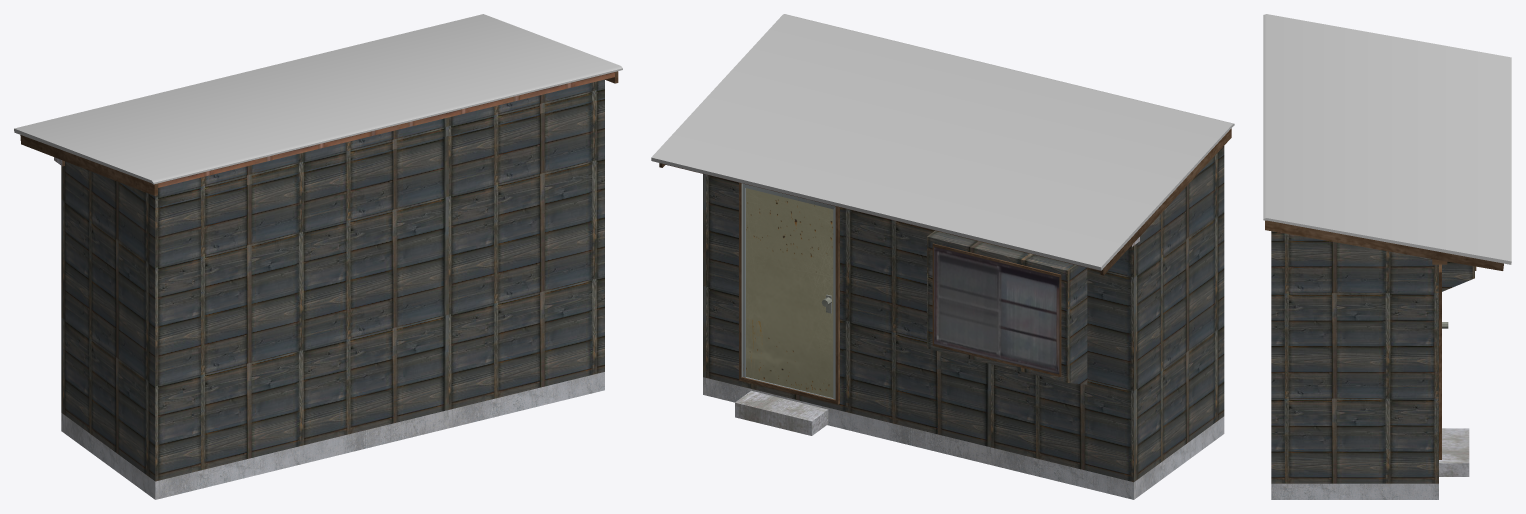
Rendered from ms_h01k_side_2.fbx.
3 views of the same model, side by side, from view 1: azimuth 30°, elevation 25°; view 2: azimuth 150°, elevation 25°; view 3: azimuth 270°, elevation 25° (orthographic). The views are drawn at different scales.
Visible parts, largest first — view 1: ms_h01k_side_2; view 2: ms_h01k_side_2; view 3: ms_h01k_side_2.
Part boxes in pixels (x1,y1,x2,y2): ms_h01k_side_2: [14, 14, 622, 499]; ms_h01k_side_2: [651, 14, 1234, 499]; ms_h01k_side_2: [1263, 14, 1511, 499].
Bounding box in the file's own units: 573 × 377 × 295.
